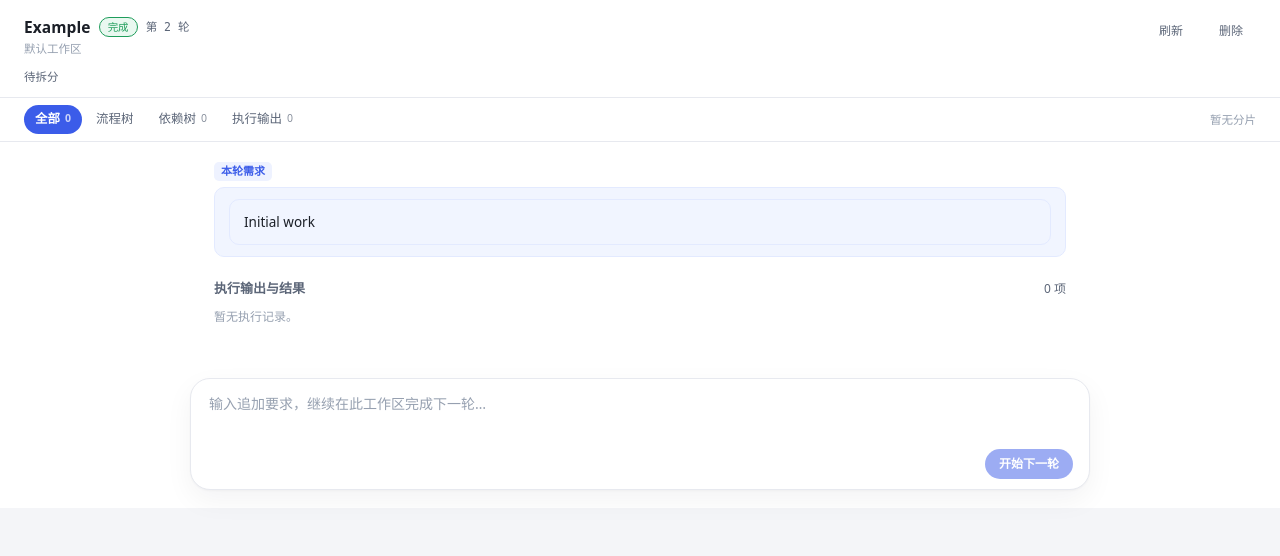
lets a completed task submit the next requirement and retains the draft on failure
This screenshot has width=1280, height=556.
Later steps or results of the test are not shown.
Check: the button "开始下一轮" is disabled, box [985,449,1073,479]
Type " Add a review " into the text box named "追加任务要求" at (640, 416), box [207,392,1073,439]
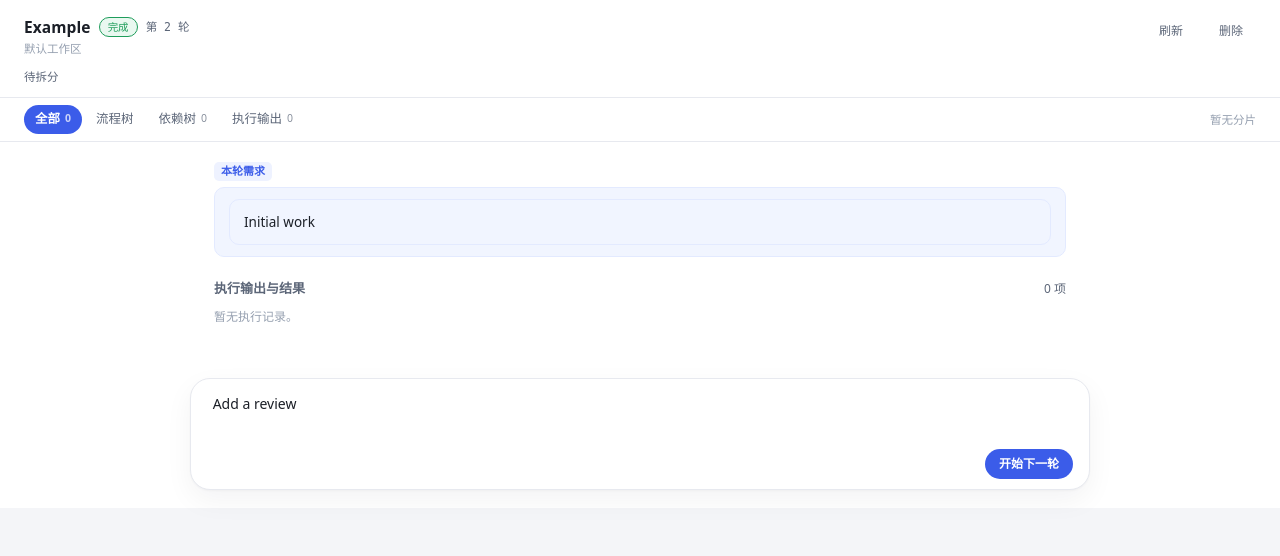
Click the button "开始下一轮" at (1029, 464), box [985,449,1073,479]
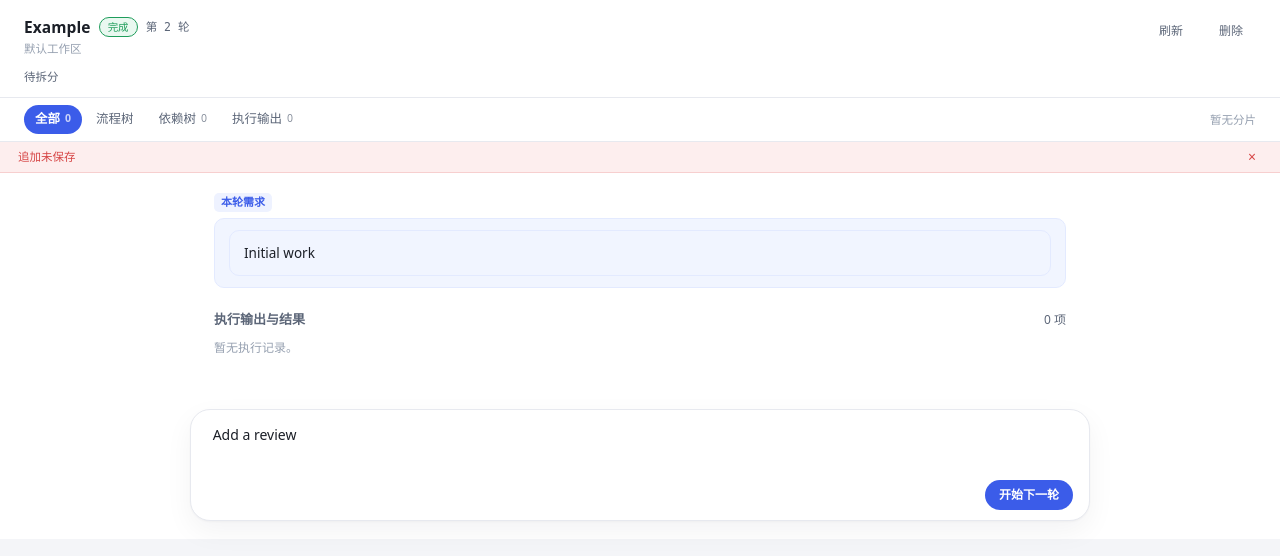
Check: the text "追加未保存" is shown, box [18,148,76,165]
